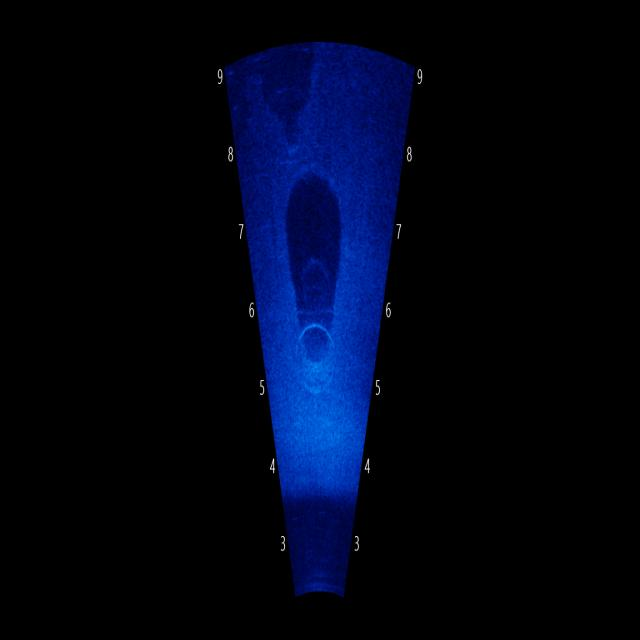circle: (290, 298, 350, 422)
